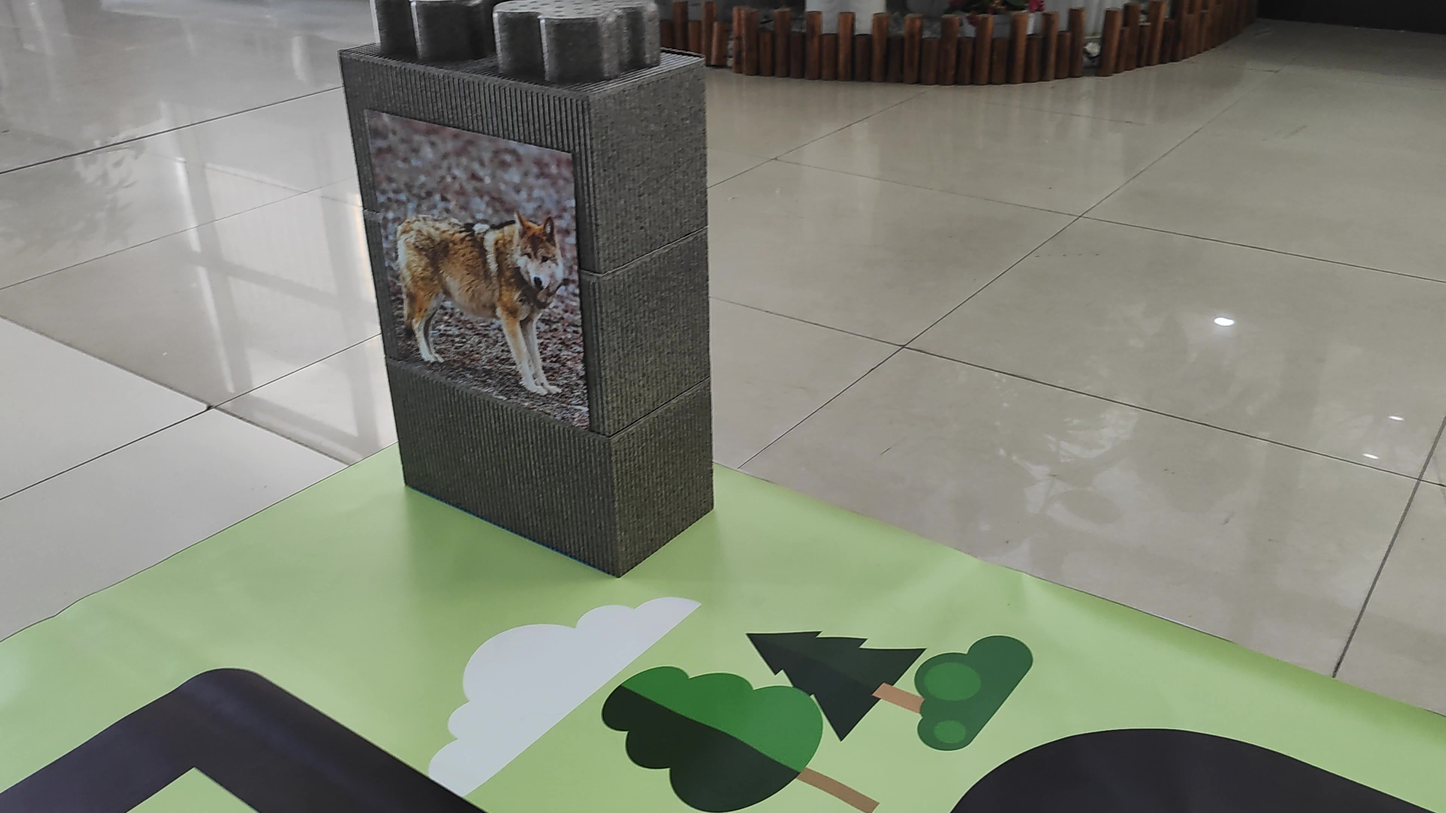wolf: (397, 181, 582, 426)
